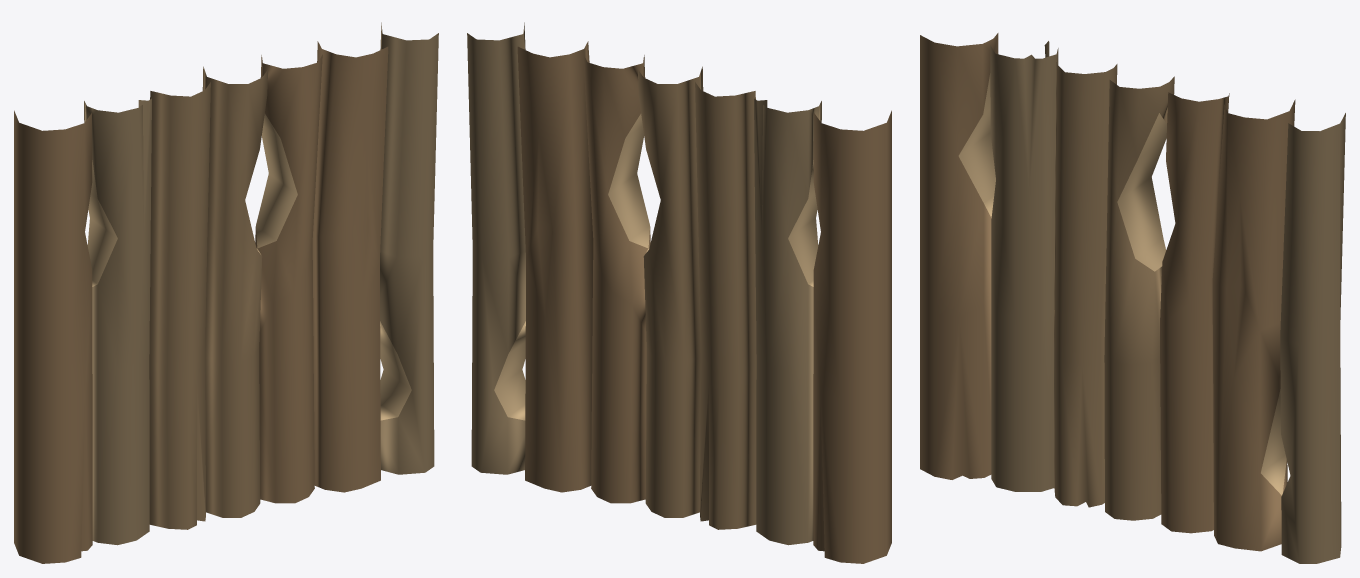
The model's file is rpgpp_av_wall_04_3x3_a.gltf.
The picture shows the model from 3 angles, left to right: view 1: azimuth 30°, elevation 25°; view 2: azimuth 150°, elevation 25°; view 3: azimuth 330°, elevation 25°; orthographic projection.
Parts seen in each view (by area): view 1: rpgpp_av_wall_04_3x3_a; view 2: rpgpp_av_wall_04_3x3_a; view 3: rpgpp_av_wall_04_3x3_a.
Boxes of the visible parts, box(x1,y1,x2,y2) form: rpgpp_av_wall_04_3x3_a: box(14, 22, 438, 563); rpgpp_av_wall_04_3x3_a: box(467, 22, 891, 563); rpgpp_av_wall_04_3x3_a: box(920, 33, 1345, 563).
Size of the model in its own units: 0.03 by 0.03 by 0.00463.
Materials: 1 (1 with a texture image).
